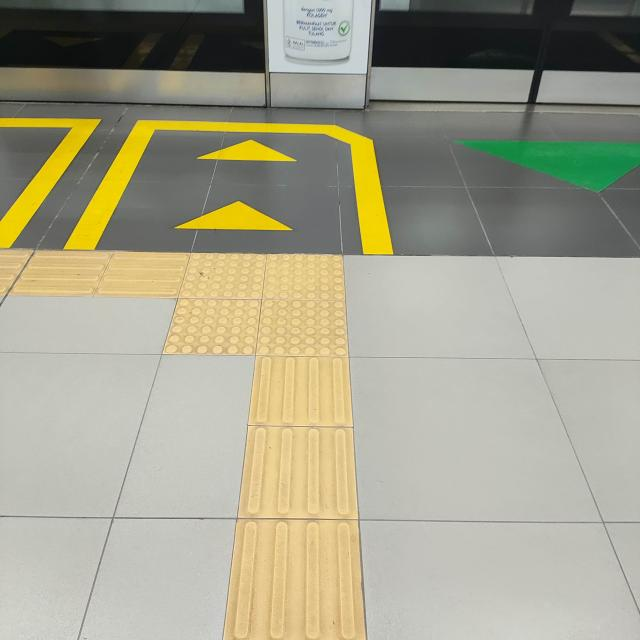kiri: (28, 236, 438, 398)
